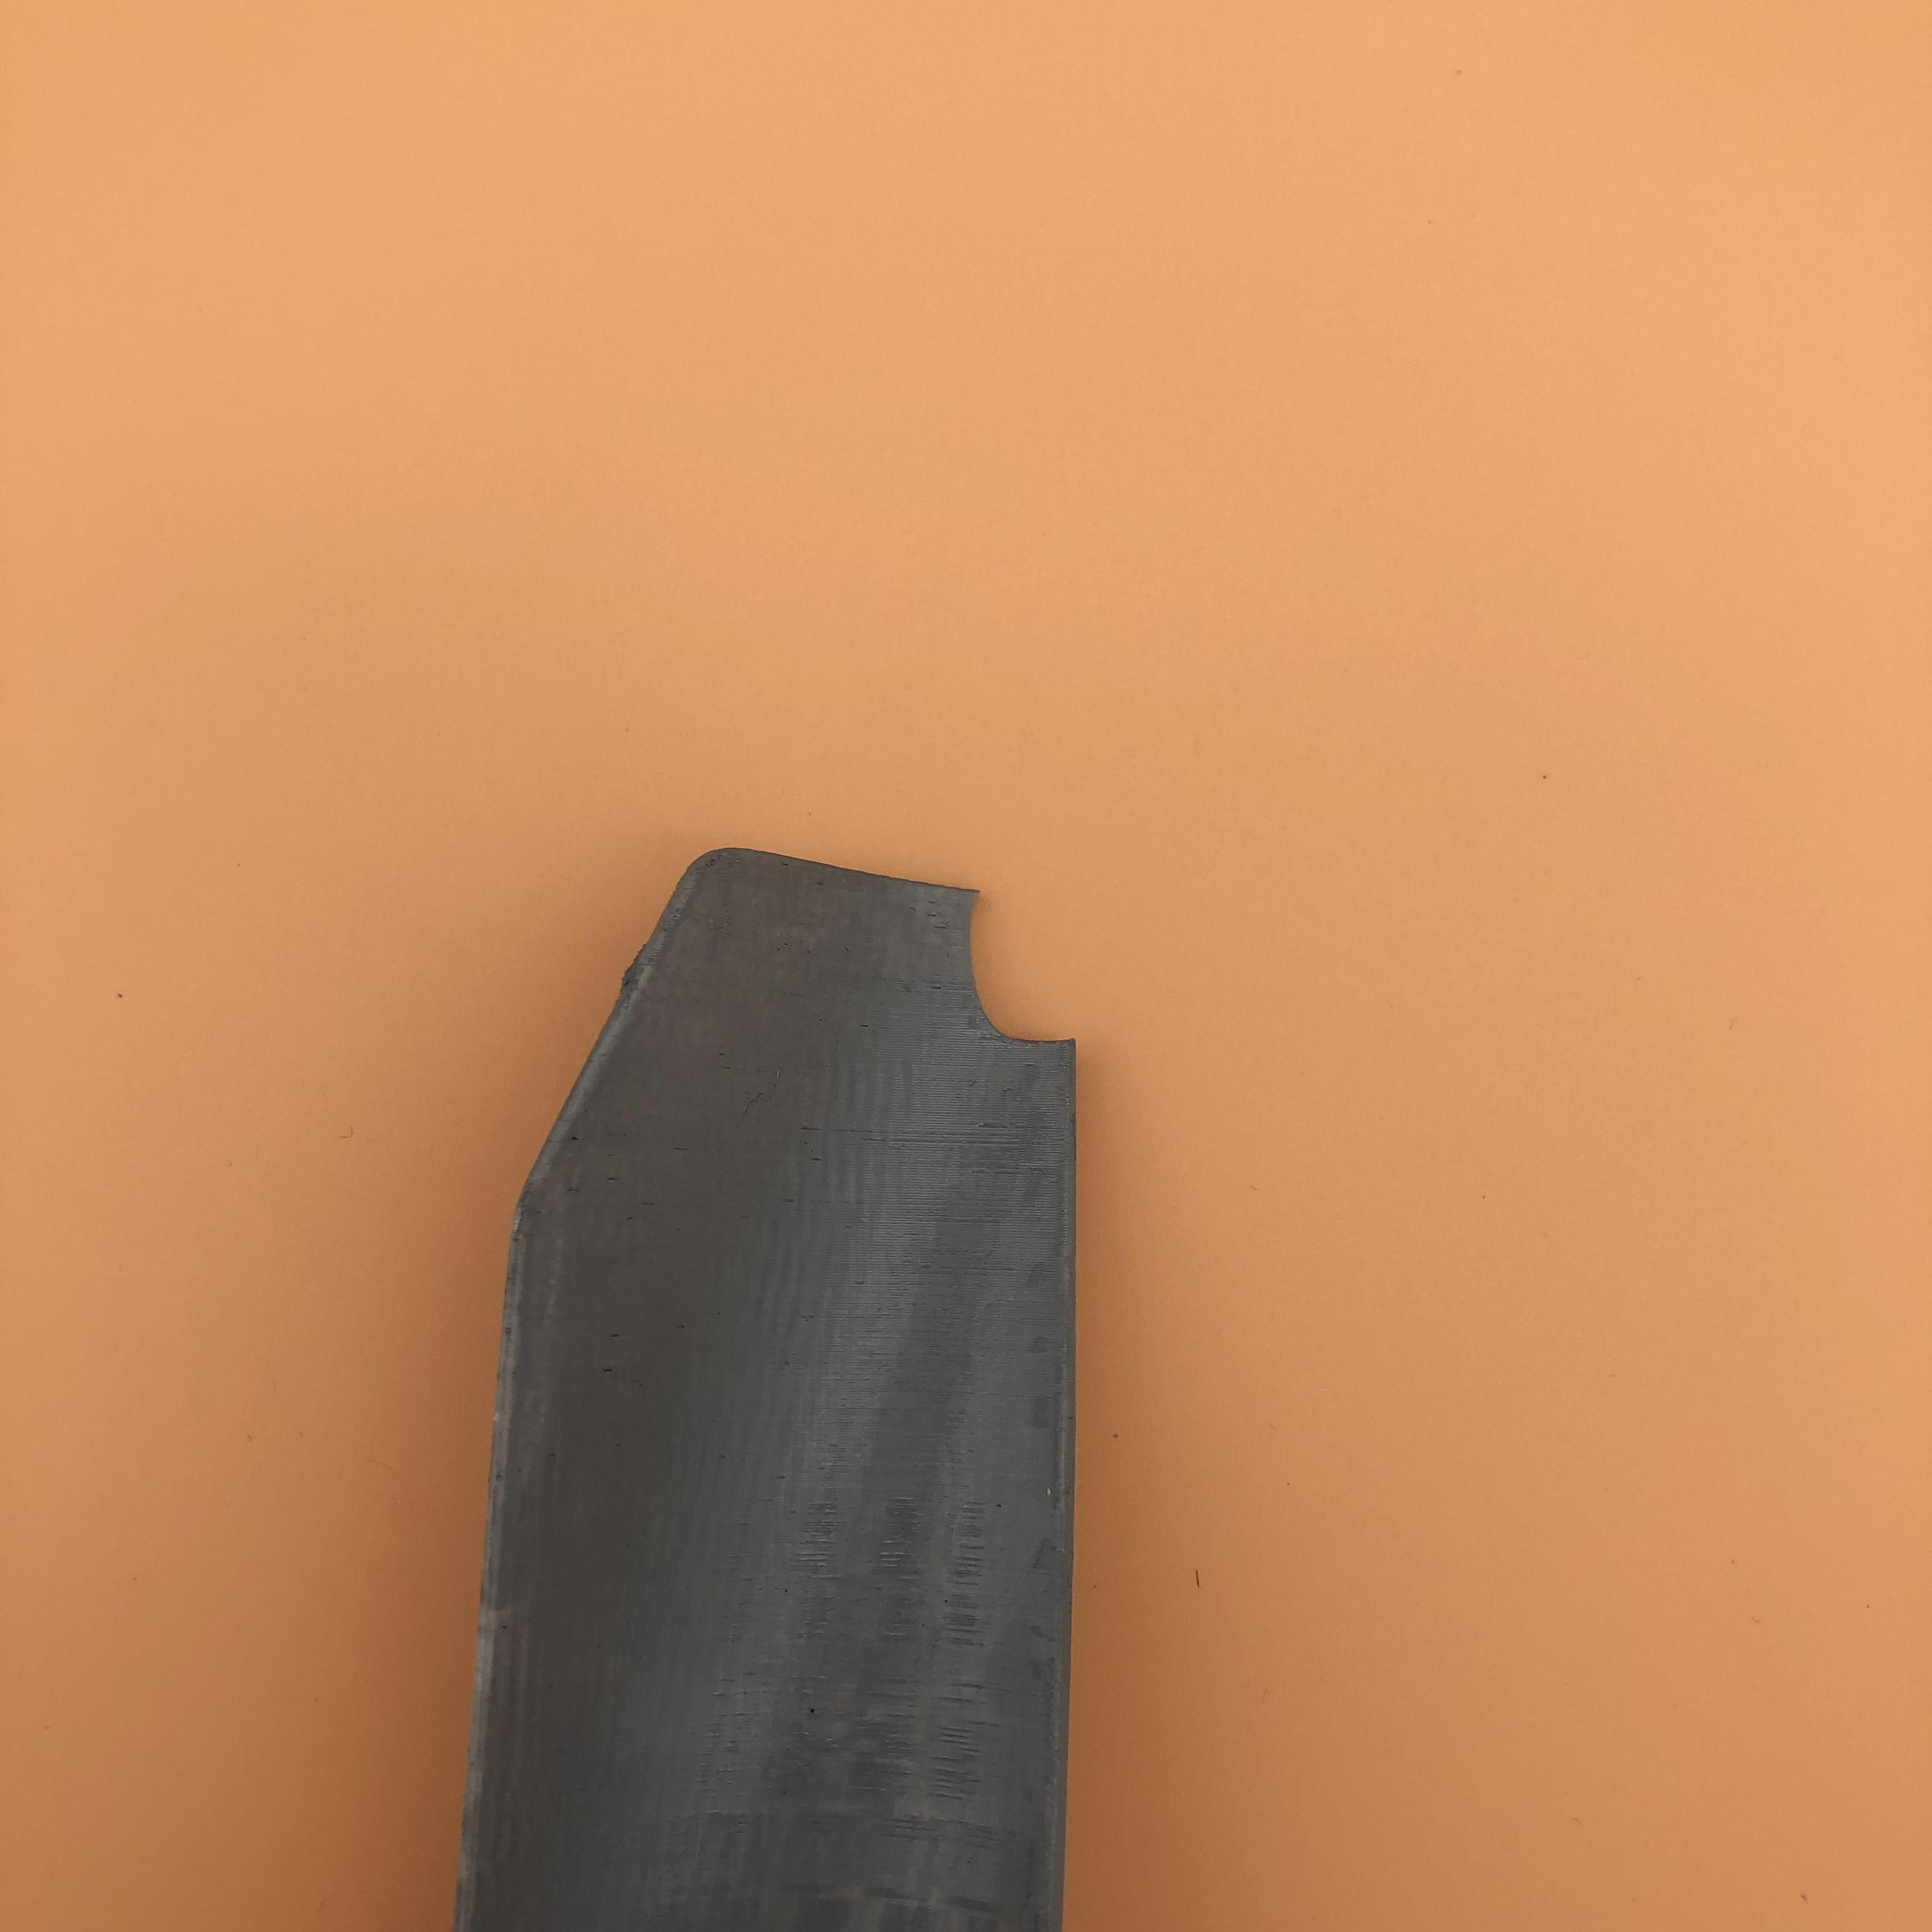fracture: (938, 878, 1083, 1063)
